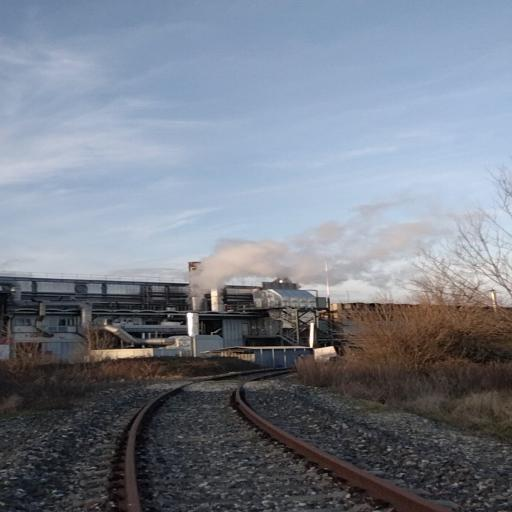leakage: (178, 184, 468, 312)
